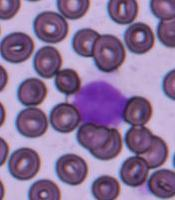L: (70, 70, 130, 127)
